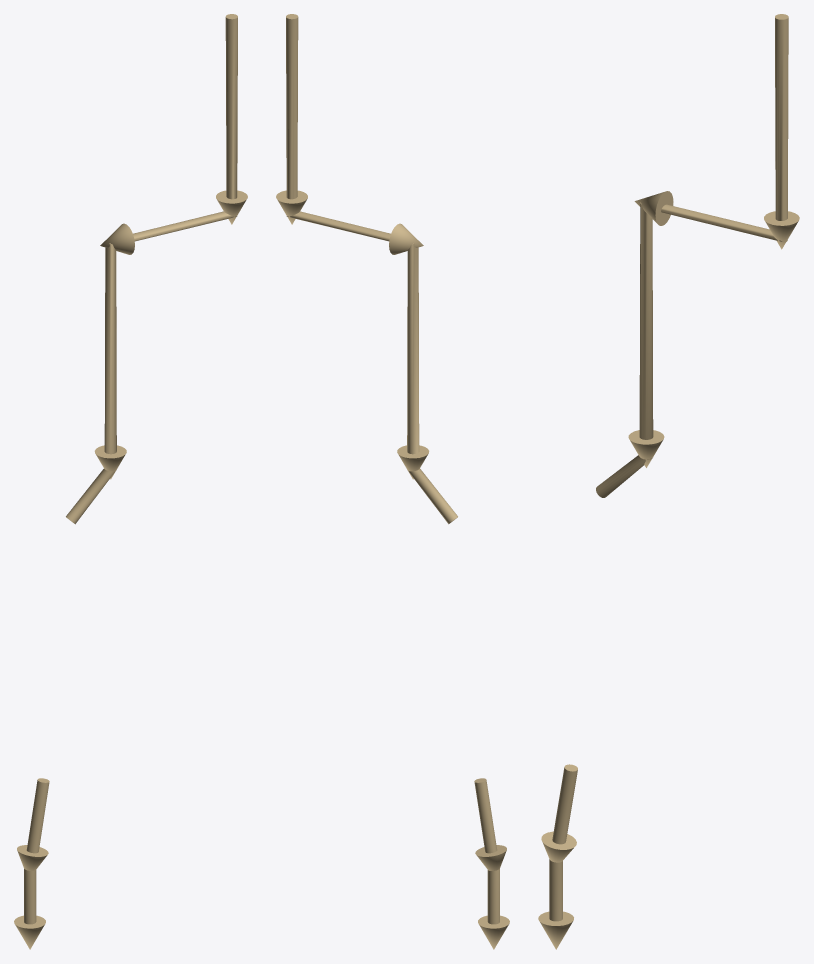
File: grease_lubrication_system_flow.glb
3 views of the same model, side by side, from view 1: azimuth 30°, elevation 25°; view 2: azimuth 150°, elevation 25°; view 3: azimuth 330°, elevation 25° (orthographic). The views are drawn at different scales.
Parts seen in each view (by area): view 1: fresh_grease, purged_grease; view 2: fresh_grease, purged_grease; view 3: fresh_grease, purged_grease.
Boxes of the visible parts, x1,y1,x2,y2 form: fresh_grease: [66, 14, 247, 524]; purged_grease: [14, 778, 49, 949]; fresh_grease: [276, 14, 457, 524]; purged_grease: [474, 778, 509, 949]; fresh_grease: [596, 14, 799, 497]; purged_grease: [538, 764, 577, 949].
Bounding box in the file's own units: 0.1708 × 0.628 × 0.0208.
